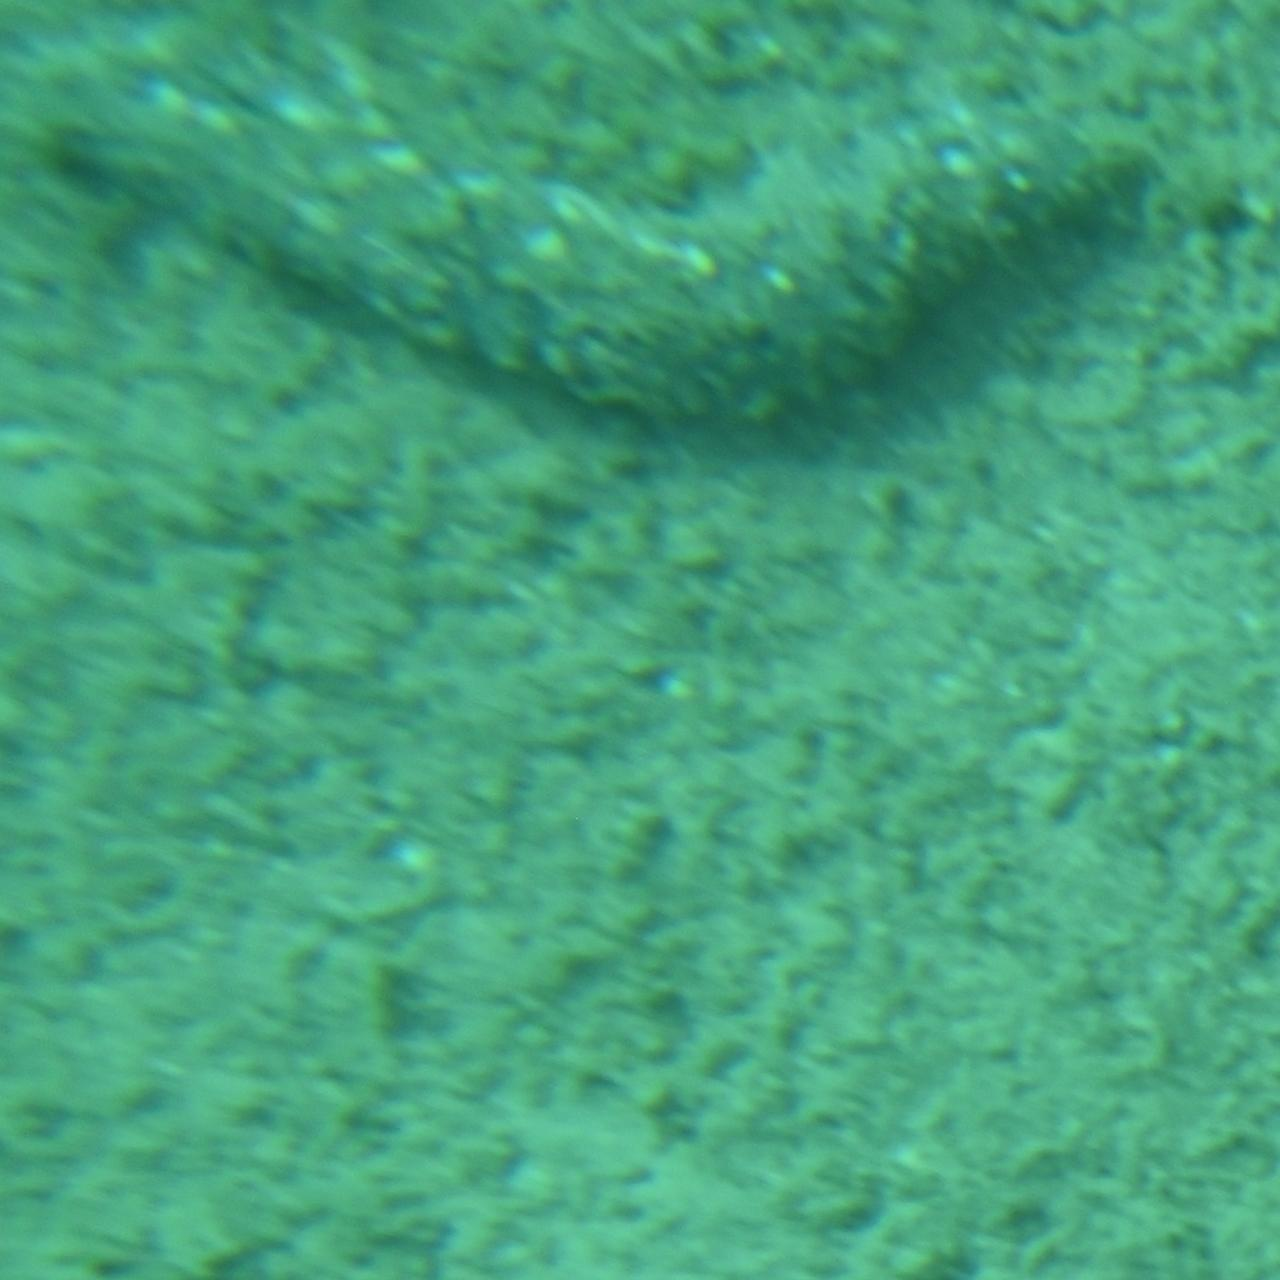Holothuria tubulosa: (21, 77, 1178, 418)
